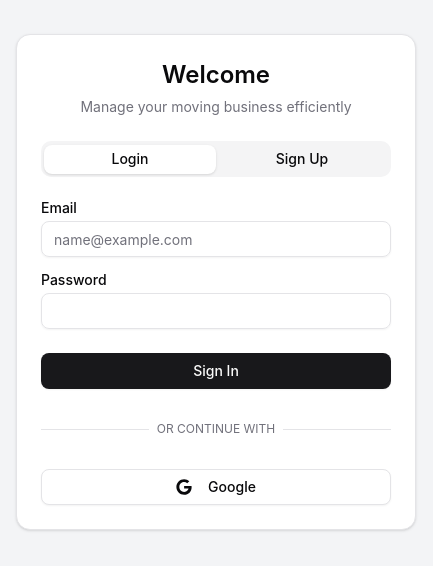
Test: LoginView › displays error message on auth failure
This screenshot has width=433, height=566.
Type "fail@example.com" into the field labelled "Email" at [216, 239], box x1=41 y1=221 x2=391 y2=257
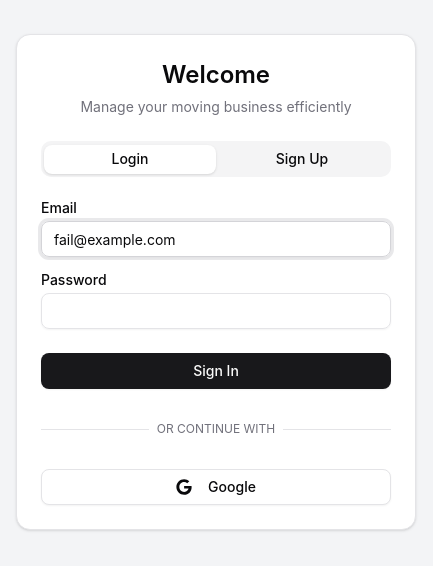
Type "wrongpass" into the password field labelled "Password" at [216, 311], box x1=41 y1=293 x2=391 y2=329
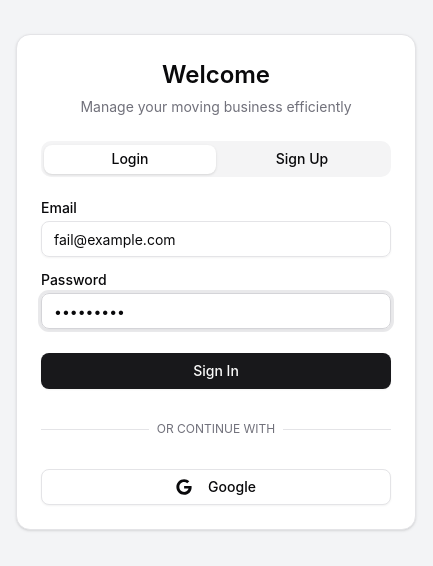
Click the button "Sign In" at [216, 371], box x1=41 y1=353 x2=391 y2=389
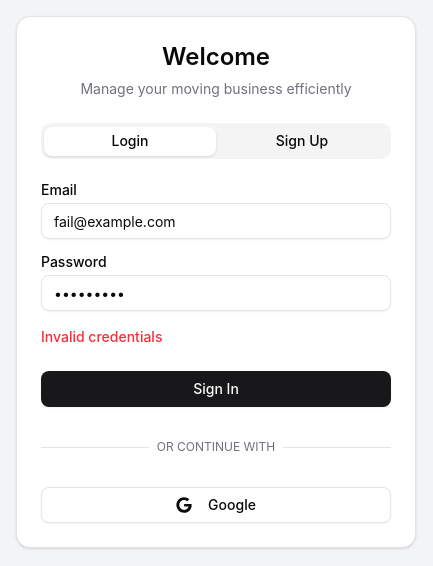
expect the text "Invalid credentials" is shown: met, box x1=41 y1=328 x2=162 y2=345
